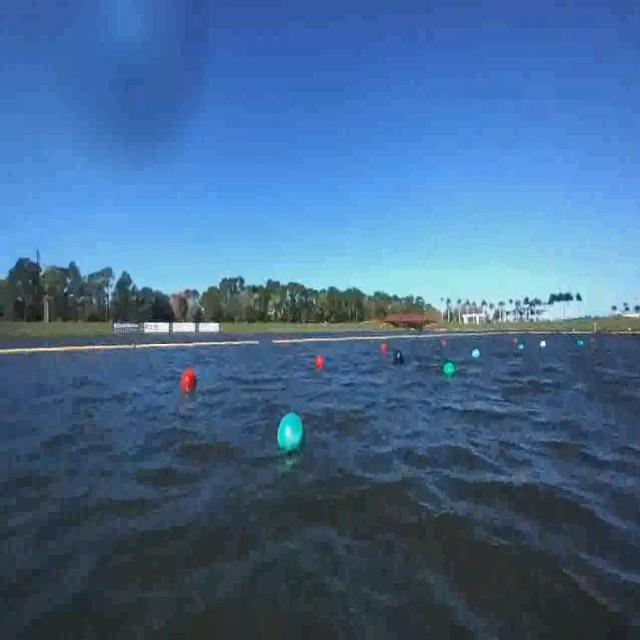black-buoy: (393, 350, 404, 366)
green-buoy: (278, 416, 306, 454), (444, 359, 456, 376)
red-buoy: (184, 368, 201, 394), (380, 338, 391, 352), (316, 356, 324, 368)
